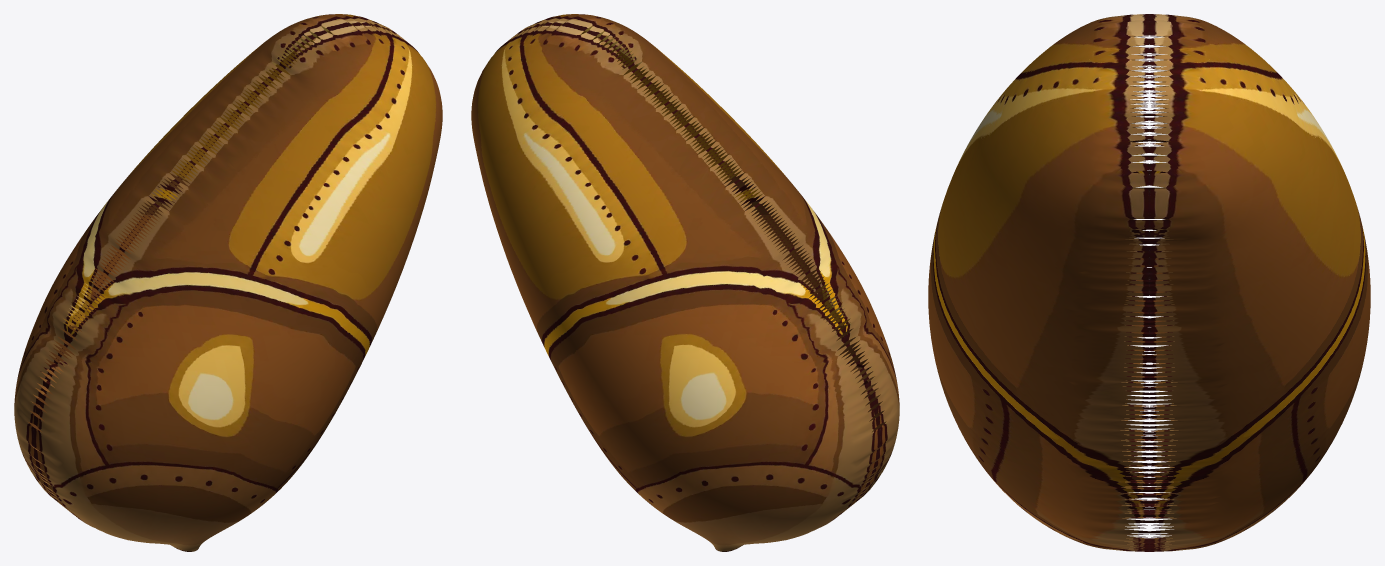
Rendered from bronze_canister.glb.
The picture shows the model from 3 angles, left to right: view 1: azimuth 30°, elevation 25°; view 2: azimuth 150°, elevation 25°; view 3: azimuth 270°, elevation 25°; orthographic projection. The views are drawn at different scales.
Visible parts, largest first — view 1: bronze_canister; view 2: bronze_canister; view 3: bronze_canister.
Part boxes in pixels (bbox=[...]): bronze_canister: bbox=[14, 14, 442, 551]; bronze_canister: bbox=[471, 14, 899, 551]; bronze_canister: bbox=[928, 14, 1370, 551].
Bounding box in the file's own units: 0.9877 × 1.1 × 0.7092.
1 material, 1 textured.
